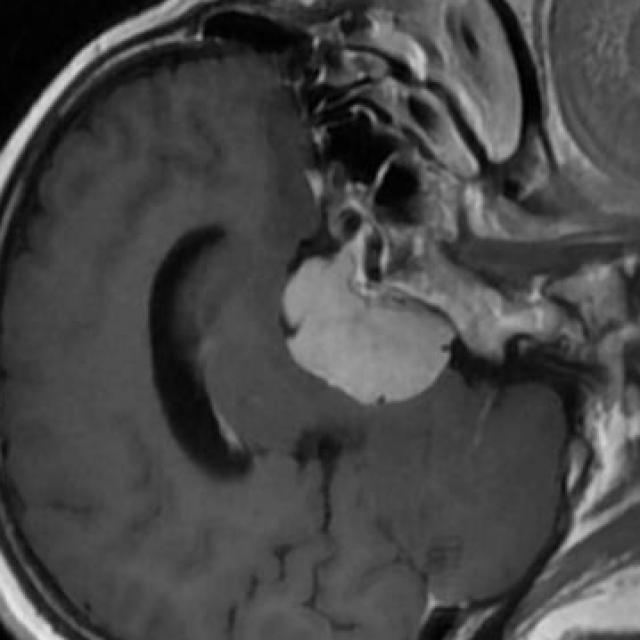meningioma: (283, 253, 453, 405)
